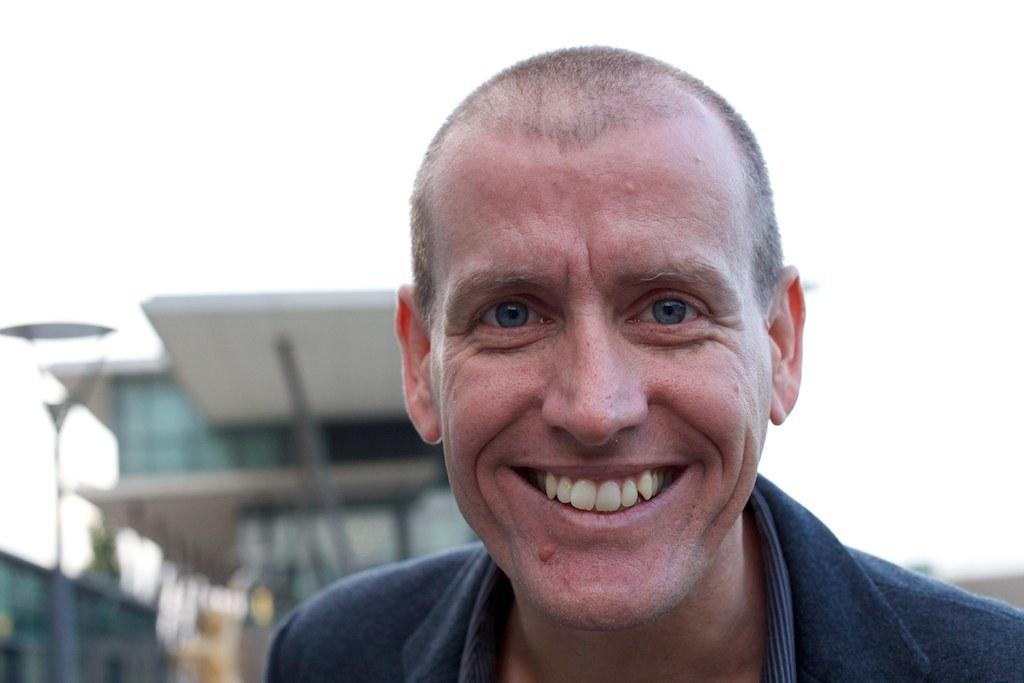Sem Máscara: (428, 133, 768, 635)
